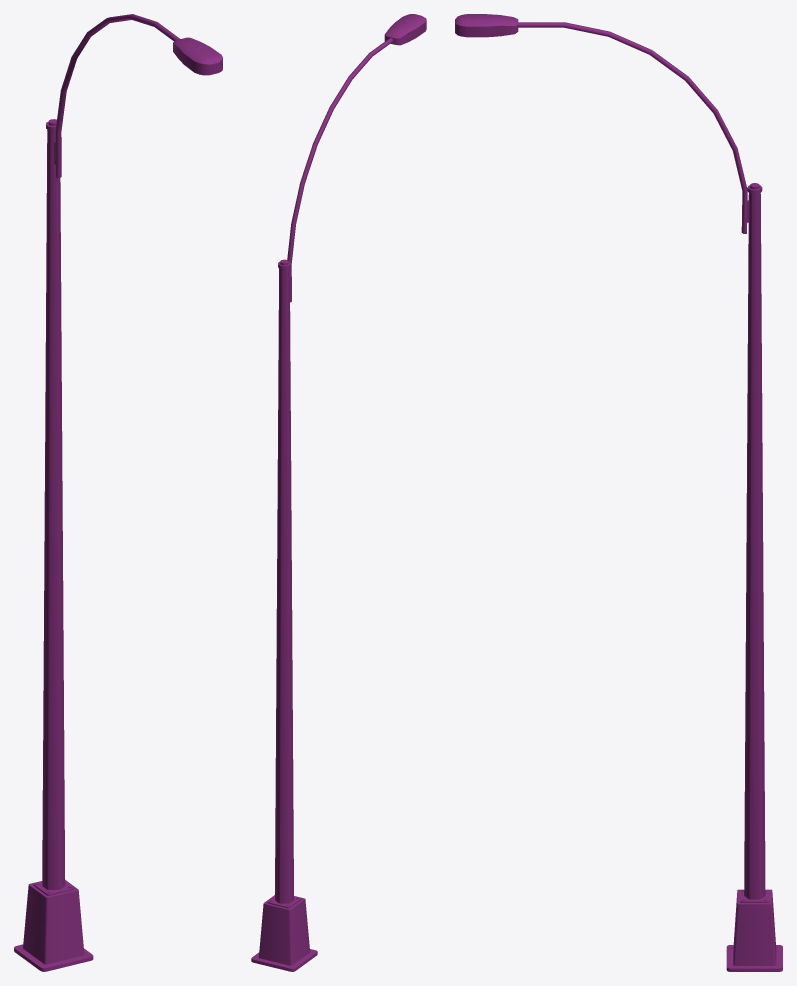
Rendered from mcp_street_light_pole_01_LOD_0.FBX.
3 views of the same model, side by side, from view 1: azimuth 30°, elevation 25°; view 2: azimuth 150°, elevation 25°; view 3: azimuth 270°, elevation 25° (orthographic). The views are drawn at different scales.
Visible parts, largest first — view 1: mcp_street_light_pole_01; view 2: mcp_street_light_pole_01; view 3: mcp_street_light_pole_01.
Boxes of the visible parts, bbox=[...] form: mcp_street_light_pole_01: bbox=[14, 14, 222, 971]; mcp_street_light_pole_01: bbox=[251, 14, 426, 971]; mcp_street_light_pole_01: bbox=[455, 14, 782, 971].
Size of the model in its own units: 65.1 by 1206 by 381.
